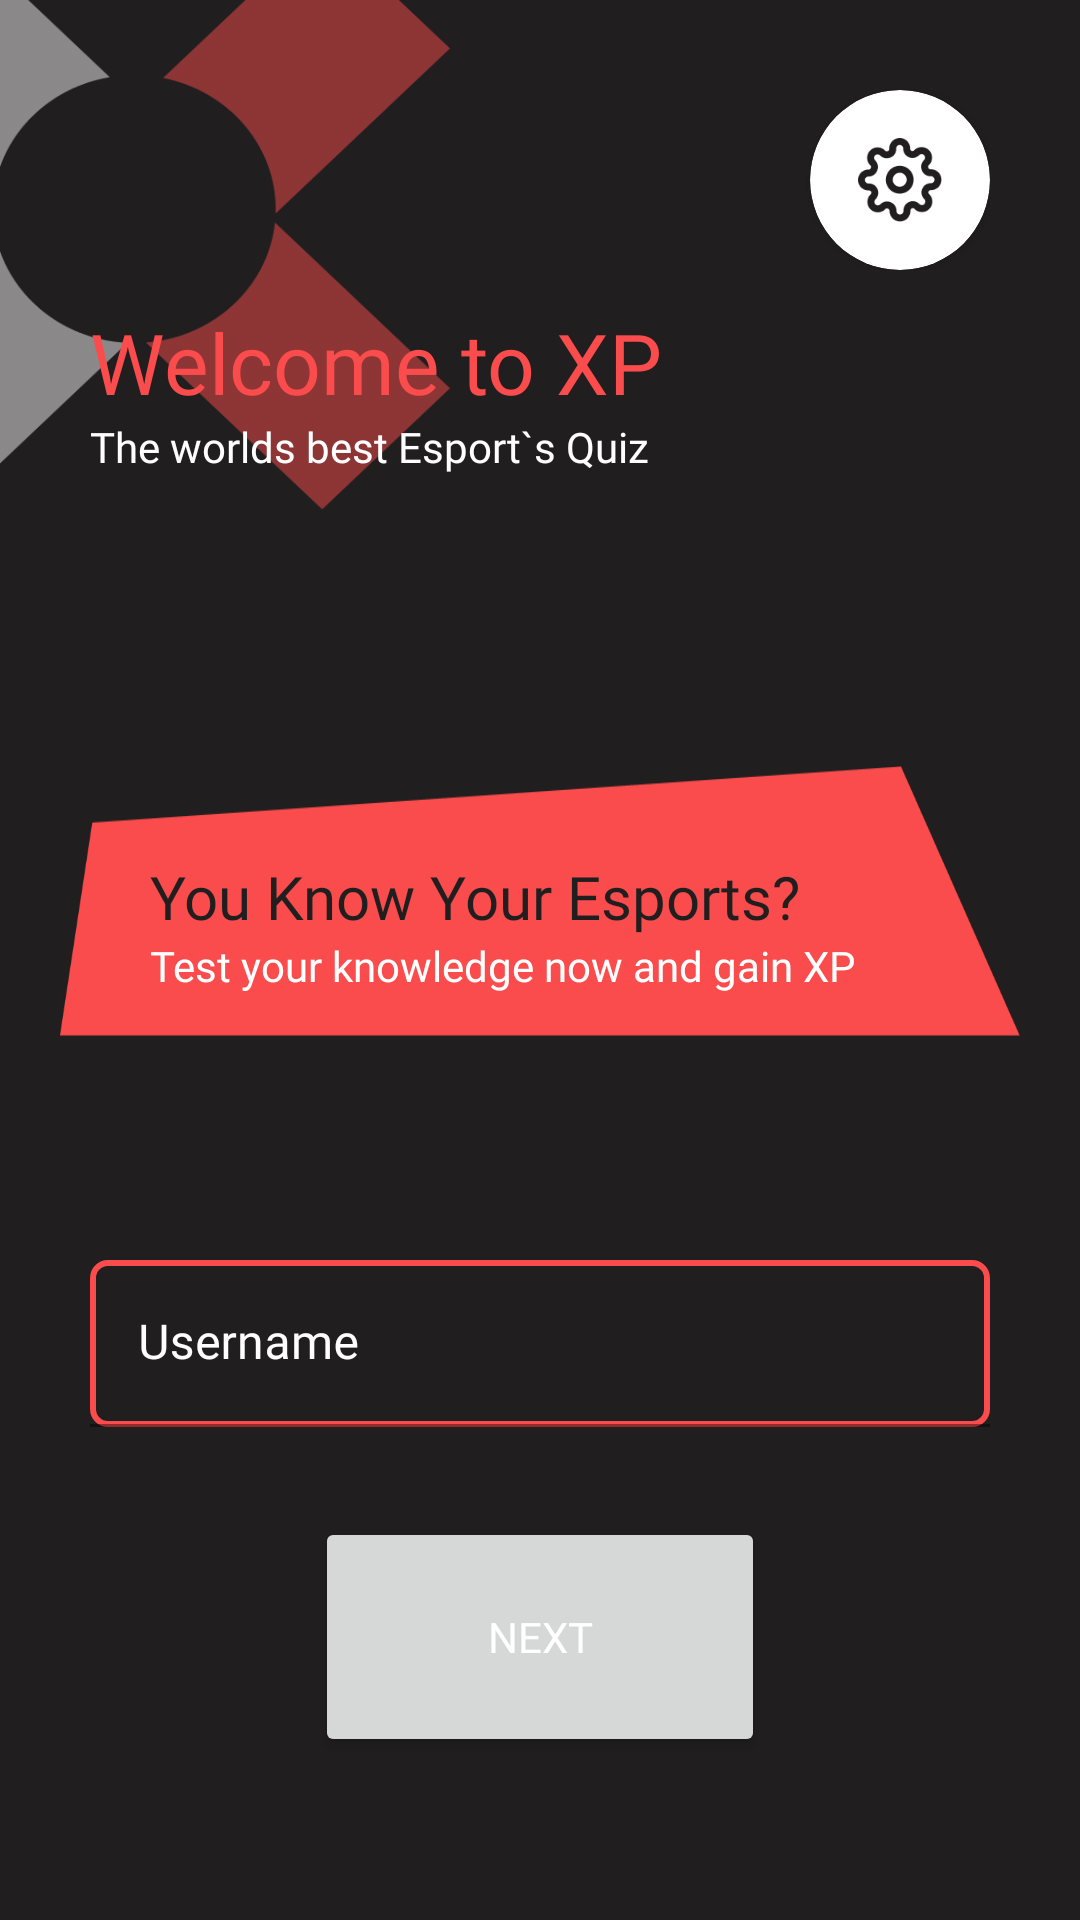

Icon click points for this 1080px x 1920px phone screenshot, format (x,y):
settings: (900,180)
